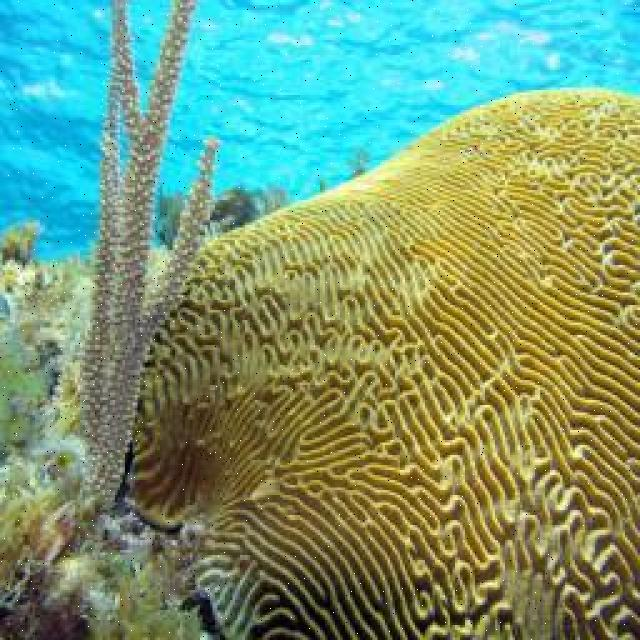reefs: (124, 88, 638, 638), (78, 0, 217, 507)
